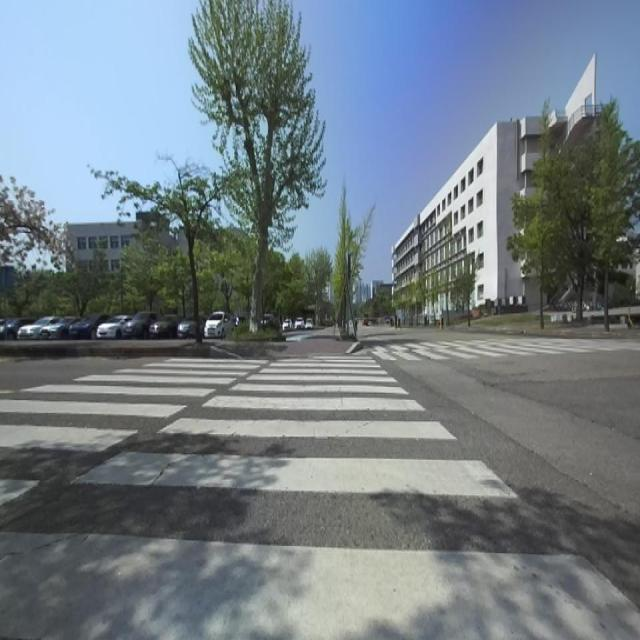sidewalk: (202, 325, 362, 359), (0, 339, 196, 346)
